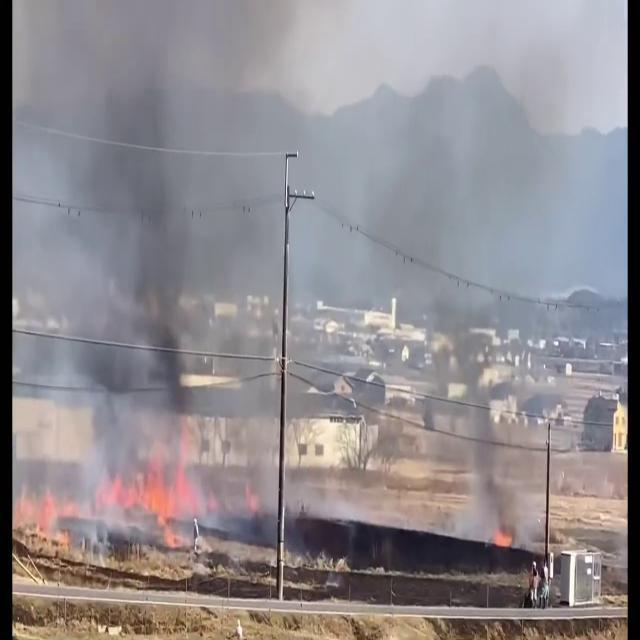Fire: (115, 438, 201, 538)
Smoke: (31, 0, 322, 551), (359, 0, 601, 528)
